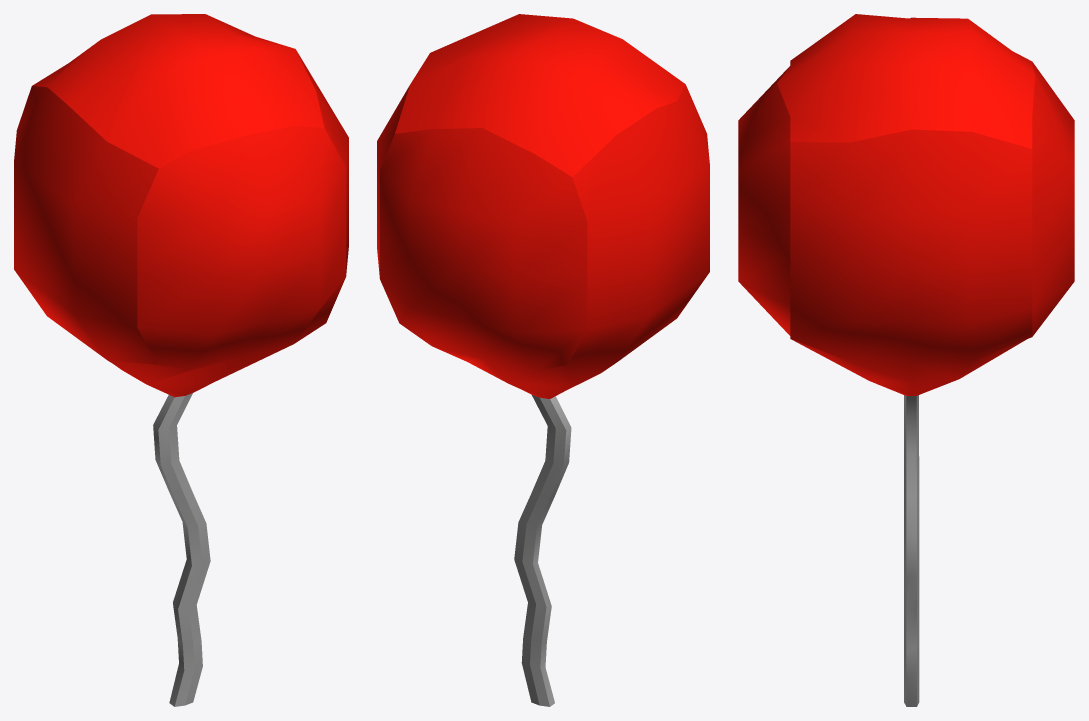
The model's file is balloon.fbx.
The picture shows the model from 3 angles, left to right: view 1: azimuth 30°, elevation 25°; view 2: azimuth 150°, elevation 25°; view 3: azimuth 270°, elevation 25°; orthographic projection.
Visible parts, largest first — view 1: pCube1; view 2: pCube1; view 3: pCube1.
Part boxes in pixels (x1,y1,x2,y2): pCube1: (14, 14, 348, 706); pCube1: (377, 14, 709, 706); pCube1: (738, 14, 1074, 706).
Size of the model in its own units: 1.32 by 3.05 by 1.39.
2 materials, 1 textured.
